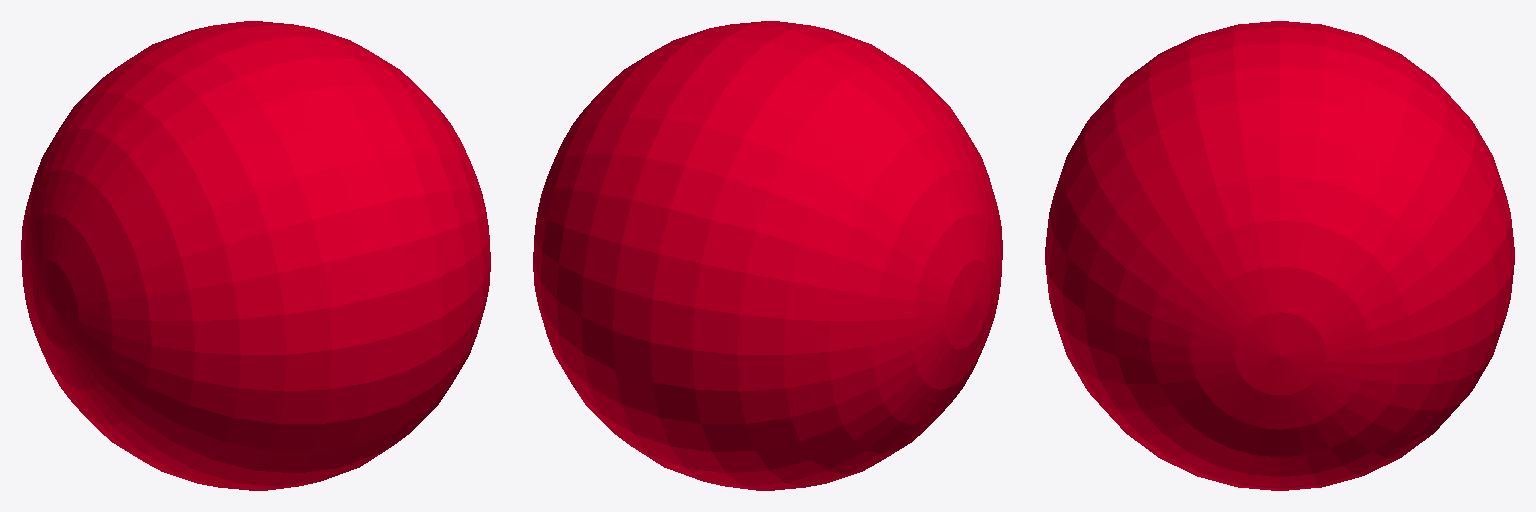
URDF robot description (universal_robot):
<?xml version="1.0"?>
<robot name="universal_robot">

<!-- DIGIT -->
<link
name="digit_body_link">
<inertial>
  <origin
    xyz="0.00443338071044421 -0.0140914049333968 4.96453152977634E-09+0.02"
    rpy="0 0 0" />
  <mass
    value="0.0077837104153161" />
  <inertia
    ixx="7.77176839696665E-07"
    ixy="-5.52554519832781E-09"
    ixz="-2.21347841658254E-13"
    iyy="1.5788930001559E-06"
    iyz="-8.96409493368731E-14"
    izz="1.05613167218354E-06" />
</inertial>
<visual>
  <origin
    xyz="0 0 0.02"
    rpy="0 0 0" />
  <geometry>
    <mesh
      filename="../standard_digit/body/digit_body.stl" />
  </geometry>
  <material name="whitish">
   <color rgba="0.8 0.8 0.8 1.0"/>
 </material>
</visual>
<collision>
  <origin
    xyz="0 0 0.02"
    rpy="0 0 0" />
  <geometry>
    <mesh
      filename="../standard_digit/body/digit_body.stl" />
  </geometry>
</collision>
</link>


<link
name="digit_tip_link">
<inertial>
  <origin
    xyz="-2.15568578500849E-07 0.00554133274527847 -0.00576051345741577-0.02"
    rpy="0 0 0" />
  <mass
    value="0.00130411151086353" />
  <inertia
    ixx="5.48284140746448E-08"
    ixy="-4.02703926962539E-12"
    ixz="-5.29135712007007E-14"
    iyy="3.03790231207661E-08"
    iyz="-1.56642204167579E-10"
    izz="8.26200689636922E-08" />
</inertial>
<visual>
  <origin
    xyz="0 0 -0.02"
    rpy="0 0 0" />
  <geometry>
    <mesh filename="../standard_digit/tip/digit_skin.stl" scale="1.05 1.05 1.0"/>
  </geometry>
  <material name="black">
     <color rgba="0.0 0.0 0.0 1.0"/>
 </material>
</visual>
<collision>
  <origin
    xyz="0 0 -0.02"
    rpy="0 0 0" />
  <geometry>
    <mesh filename="../standard_digit/tip/digit_core.stl" scale="1.05 1.05 1.0"/>
  </geometry>
</collision>
</link>

<joint
name="digit_tip_to_body"
type="fixed">
<origin
  xyz="-0.00151521951809463 -1.36251105150219E-05 -0.00415"
  rpy="-3.14159265358979 0 1.5707963267949" />
<parent
  link="digit_body_link" />
<child
  link="digit_tip_link" />
<axis
  xyz="0 0 0" />
</joint>

  <!-- TCP -->
  <link name="tcp_link">
    <visual>
      <origin rpy="0 0 0" xyz="0 0 0"/>
      <geometry>
        <sphere radius="0.001"/>
      </geometry>
      <material name="TransparentRed">
        <color rgba="0.9 0 0.2 0.5"/>
      </material>
    </visual>
    <inertial>
      <mass value="0.0"/>
      <origin rpy="0.0 0.0 1.57" xyz="0.0 0.0 0.0"/>
      <inertia ixx="1.0" ixy="0.0" ixz="0.0" iyy="1.0" iyz="0.0" izz="1.0"/>
    </inertial>
  </link>

  <joint name="tcp_joint" type="fixed">
    <parent link="digit_body_link"/>
    <child link="tcp_link"/>
    <origin rpy="1.57 0 -1.57" xyz="0.0007 0.0 0.025"/>
    <!-- <origin rpy="0 0 0" xyz="0.00145 0.0 0.025"/> -->
    <!-- <origin rpy="0 0 0" xyz="0.0018 0.0 0.025"/> -->
  </joint>

</robot>

--- What the picture shows (computed from the rendered views, not written in the file) ---
3 views of the same robot in one strip: view 1: azimuth 30°, elevation 25°; view 2: azimuth 150°, elevation 25°; view 3: azimuth 270°, elevation 25° (orthographic).
Robot: universal_robot — 3 links, 2 joints (2 fixed); root link digit_body_link; default pose: all joints at 0.
Visible links, largest first — view 1: tcp_link; view 2: tcp_link; view 3: tcp_link.
Boxes of the visible links, <box> form: tcp_link: <box>21,21,490,490</box>; tcp_link: <box>533,21,1002,490</box>; tcp_link: <box>1045,21,1514,490</box>.
Bounding box of the posed robot: 0.002 × 0.002 × 0.002 m (x, y, z).
0 mesh visuals loaded from 2 distinct referenced files (none loaded); not drawn: 2 (reference not matched to a file when rendering).